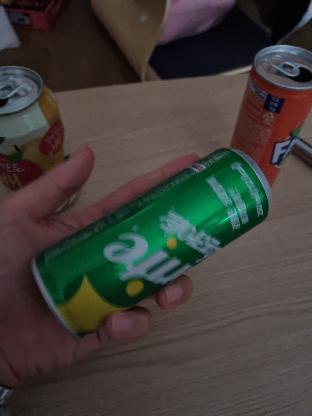Can: (59, 145, 241, 334)
